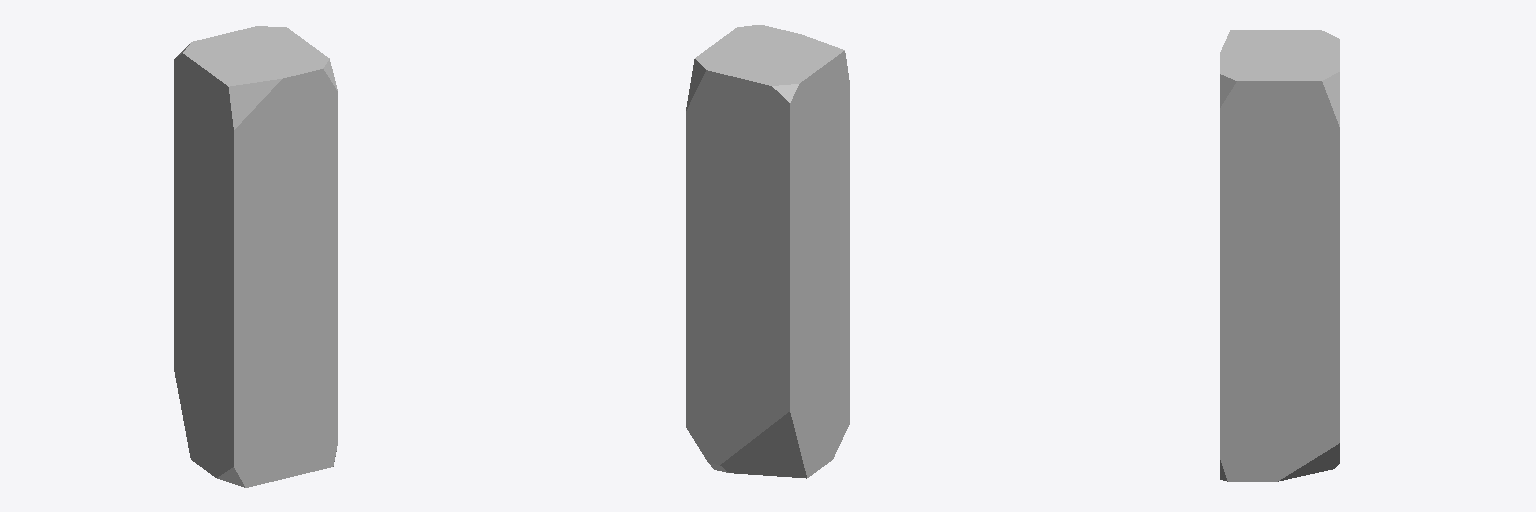
File: RockPillar4.obj
3 views of the same model, side by side, from view 1: azimuth 30°, elevation 25°; view 2: azimuth 150°, elevation 25°; view 3: azimuth 270°, elevation 25° (orthographic).
Parts seen in each view (by area): view 1: Cube_010; view 2: Cube_010; view 3: Cube_010.
Boxes of the visible parts, x1=… form: Cube_010: x1=174, y1=26, x2=337, y2=487; Cube_010: x1=686, y1=25, x2=849, y2=478; Cube_010: x1=1220, y1=30, x2=1339, y2=481.
Bounding box in the file's own units: 71.32 × 261 × 71.32.